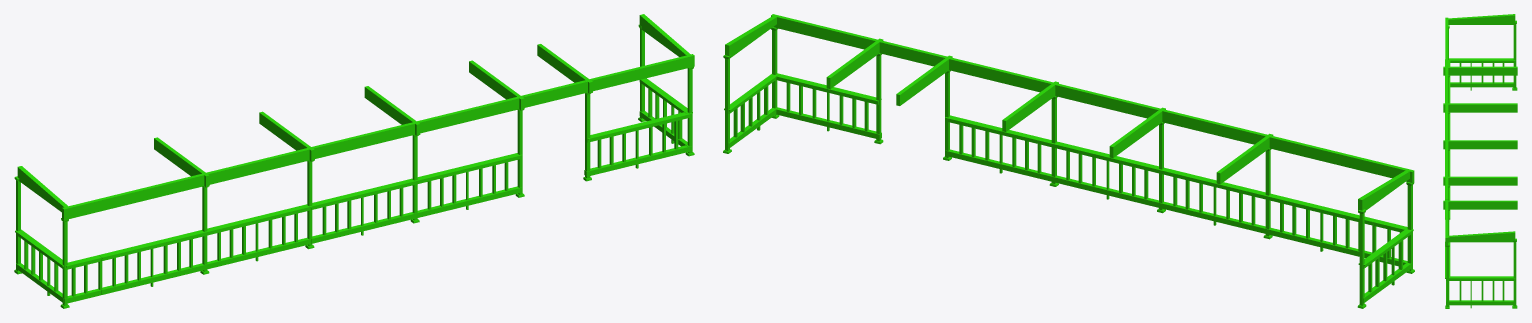
File: H05_Front_01B.fbx
3 views of the same model, side by side, from view 1: azimuth 30°, elevation 25°; view 2: azimuth 150°, elevation 25°; view 3: azimuth 270°, elevation 25° (orthographic). The views are drawn at different scales.
Parts seen in each view (by area): view 1: H05_Front_01B; view 2: H05_Front_01B; view 3: H05_Front_01B.
Boxes of the visible parts, <box> form: H05_Front_01B: <box>14,14,694,308</box>; H05_Front_01B: <box>723,14,1414,308</box>; H05_Front_01B: <box>1443,14,1517,308</box>.
Size of the model in its own units: 1804 by 290 by 257.
